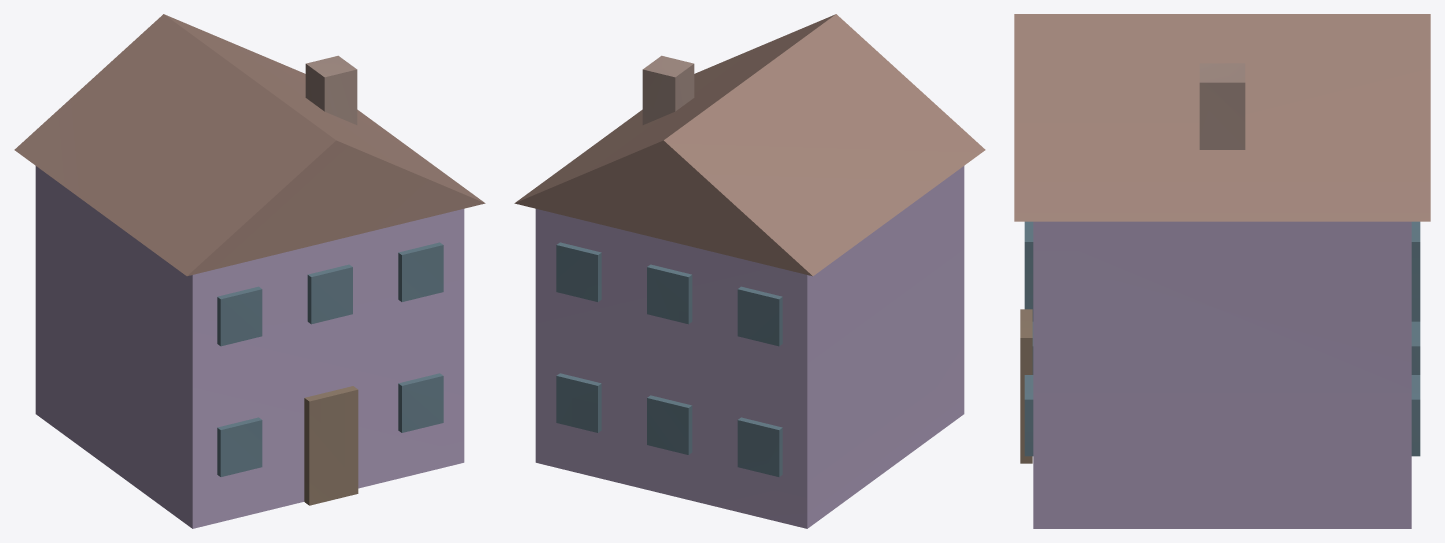
The model's file is cottage-05.glb.
3 renders of one model, left to right at view 1: azimuth 30°, elevation 25°; view 2: azimuth 150°, elevation 25°; view 3: azimuth 270°, elevation 25°, orthographic. The views are drawn at different scales.
Visible parts, largest first — view 1: world; view 2: world; view 3: world.
Boxes of the visible parts, left/top/right/bottom form: world: left=14, top=14, right=485, bottom=528; world: left=514, top=14, right=985, bottom=528; world: left=1014, top=14, right=1430, bottom=528.
Size of the model in its own units: 1.2 by 1.39 by 1.2.
